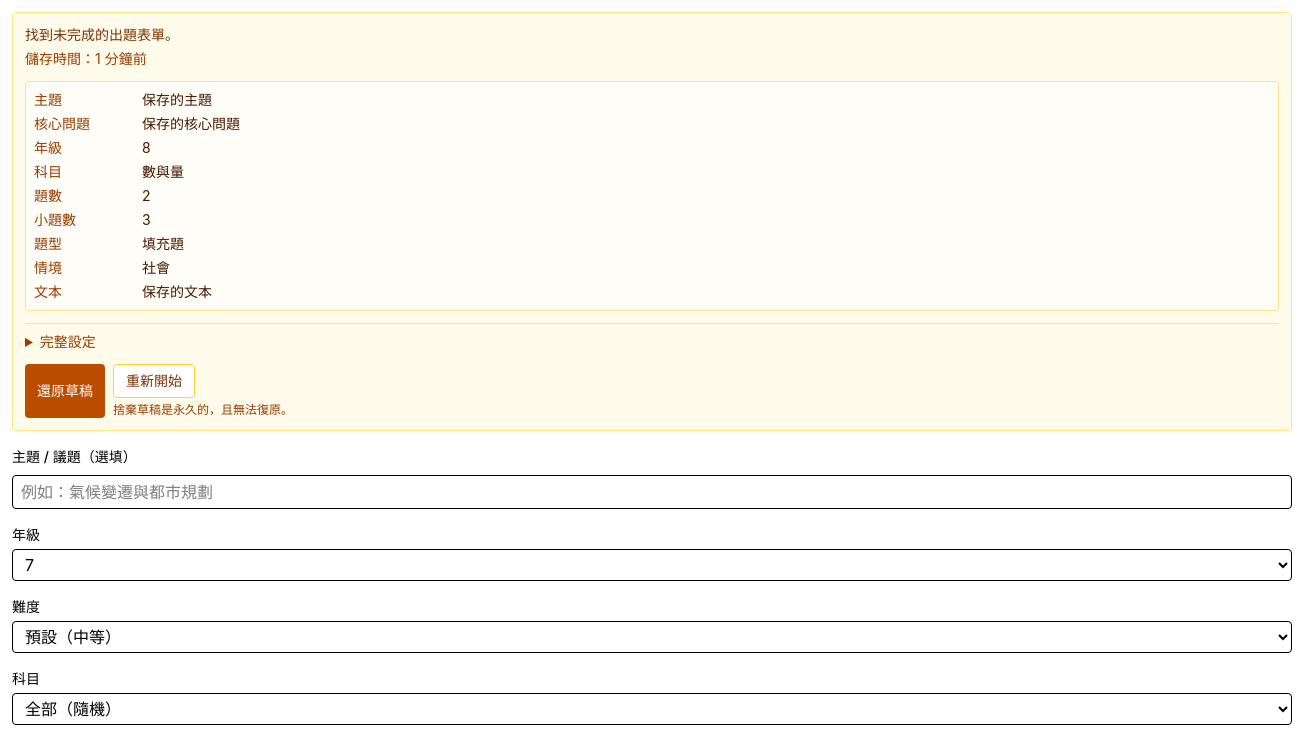
Test: ParamForm draft restoration › clears the draft and leaves the form blank on 重新開始
Expected: the text "找到未完成的出題表單。" is shown, [25,26,179,43]
Expected: the field with placeholder "例如：氣候變遷與都市規劃" is empty, [12,475,1292,509]
Click the button "重新開始" at x=154, y=381, box [113,364,195,398]
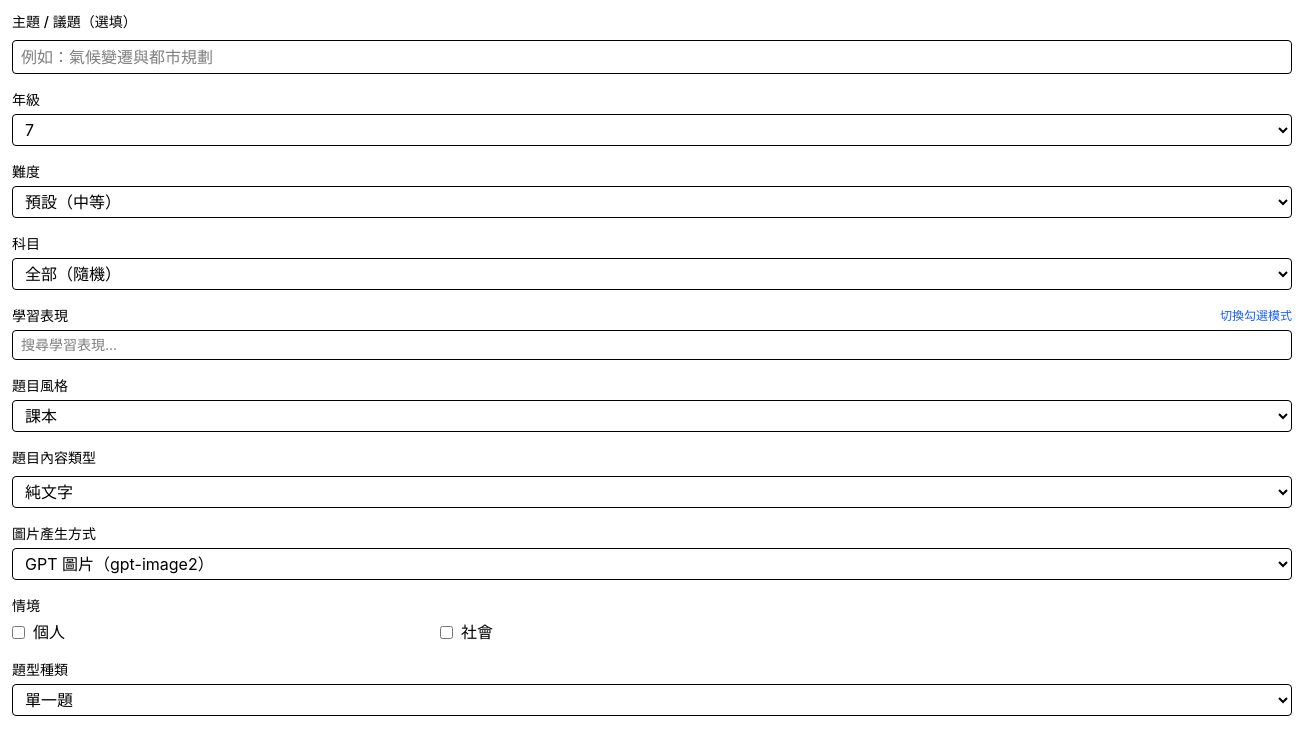
Expected: the field with placeholder "例如：氣候變遷與都市規劃" is empty, [12,40,1292,74]
Expected: the text "找到未完成的出題表單。" is gone
